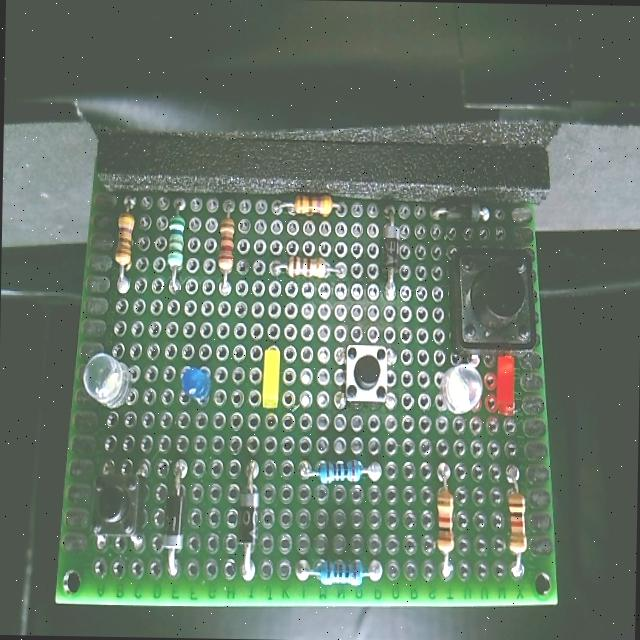diode: (230, 455, 267, 584), (160, 456, 193, 576), (380, 194, 403, 300), (427, 192, 493, 222)
led: (78, 346, 140, 411), (433, 358, 484, 416), (175, 358, 214, 408), (490, 352, 518, 418), (258, 341, 283, 413)
resistor: (107, 187, 141, 295), (502, 460, 532, 582), (429, 461, 456, 580), (214, 194, 242, 297), (268, 246, 350, 280), (164, 194, 191, 296), (270, 190, 350, 218)
switch: (444, 242, 538, 364), (90, 456, 152, 550), (332, 342, 401, 408)
